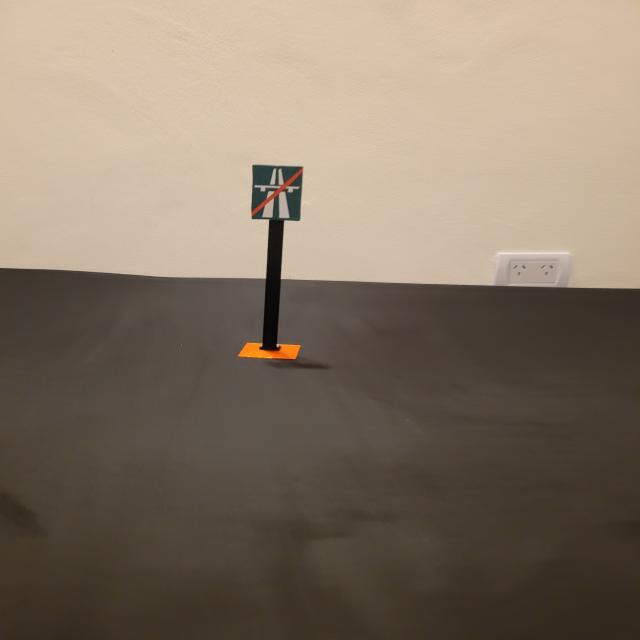highway_exit: (251, 164, 302, 221)
